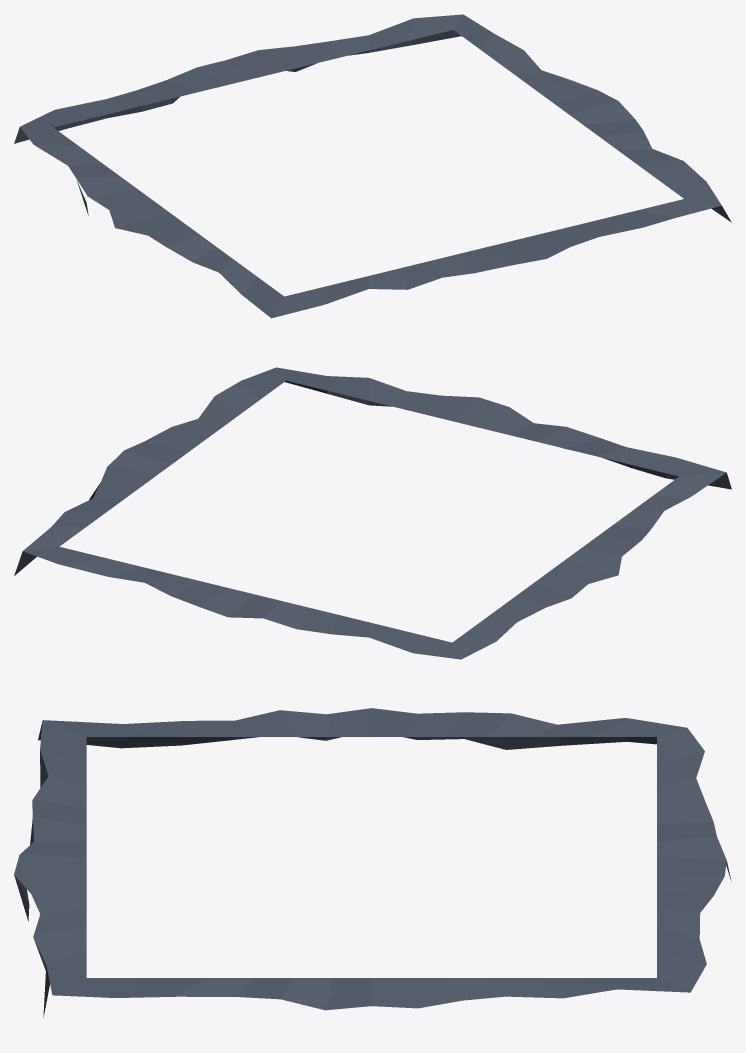
The model's file is entorno_16.glb.
3 views of the same model, one above another, from view 1: azimuth 30°, elevation 25°; view 2: azimuth 150°, elevation 25°; view 3: azimuth 270°, elevation 25° (orthographic). The views are drawn at different scales.
Parts seen in each view (by area): view 1: vulcao_entorno_16; view 2: vulcao_entorno_16; view 3: vulcao_entorno_16.
Part boxes in pixels (box(x1,y1,x2,y2)): vulcao_entorno_16: box(14, 14, 731, 318); vulcao_entorno_16: box(14, 367, 731, 659); vulcao_entorno_16: box(14, 708, 731, 1017).
Size of the model in its own units: 20.59 by 1.07 by 20.39.
